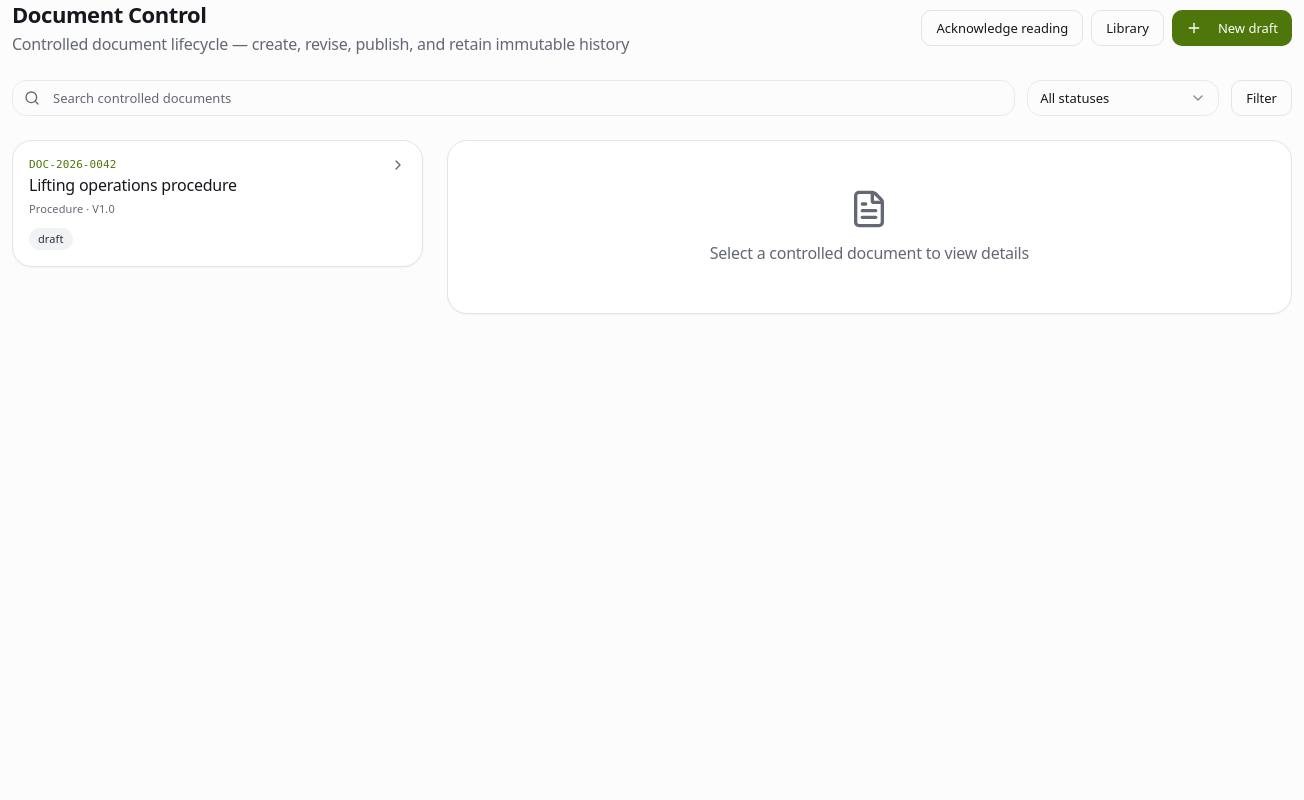
Test: Document Control distribution list › discloses that an empty list was never read
Step 1. Click the text "Lifting operations procedure" → (133, 185), box [29, 173, 237, 197]
(page scrolled)
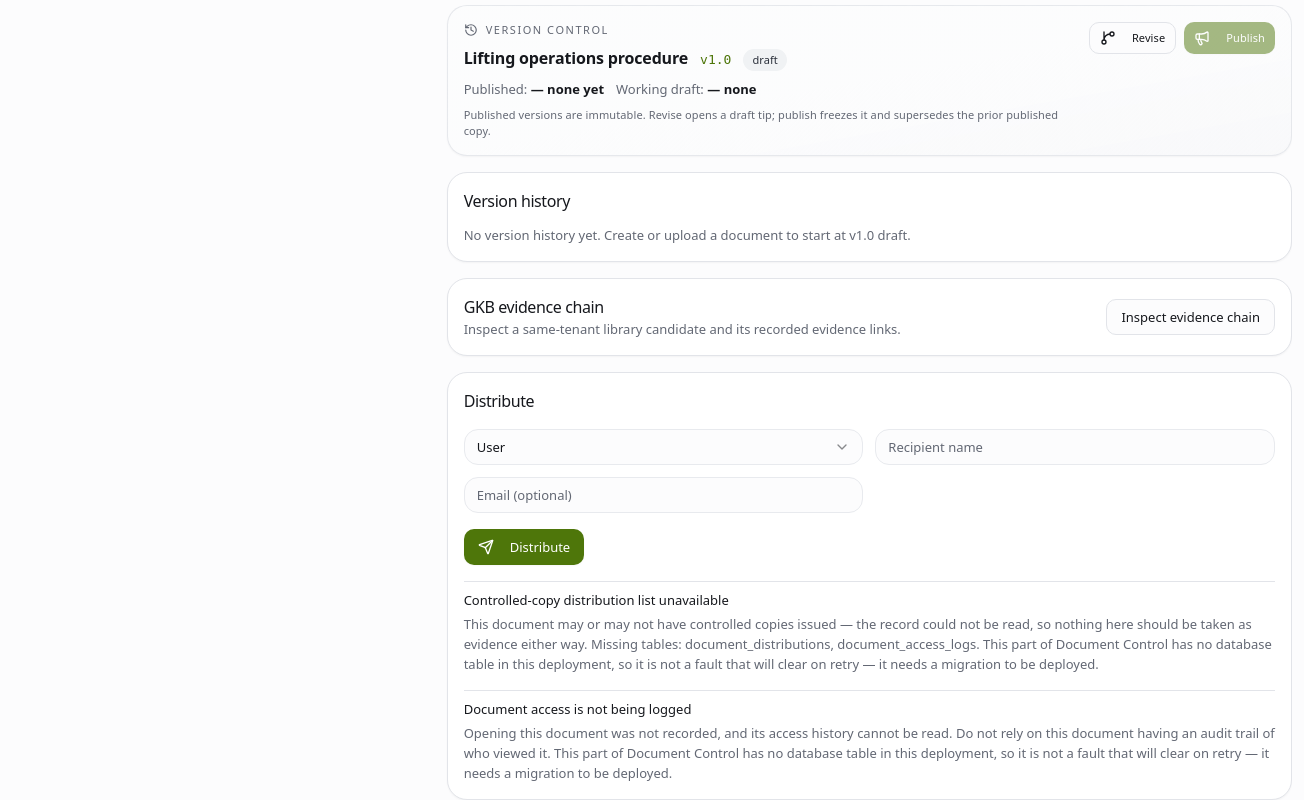
Result: the message with test id "document-control-distributions-unavailable" shows "could not be read" at [464, 615, 1272, 673]
Result: the message with test id "document-control-distributions-unavailable" shows "document_distributions" at [464, 615, 1272, 673]
Result: the message with test id "document-control-distributions-unavailable" shows "needs a migration" at [464, 615, 1272, 673]
